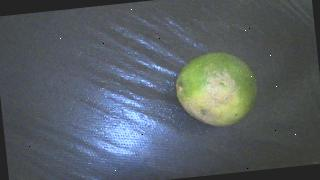DESECHO: (173, 49, 260, 131)
